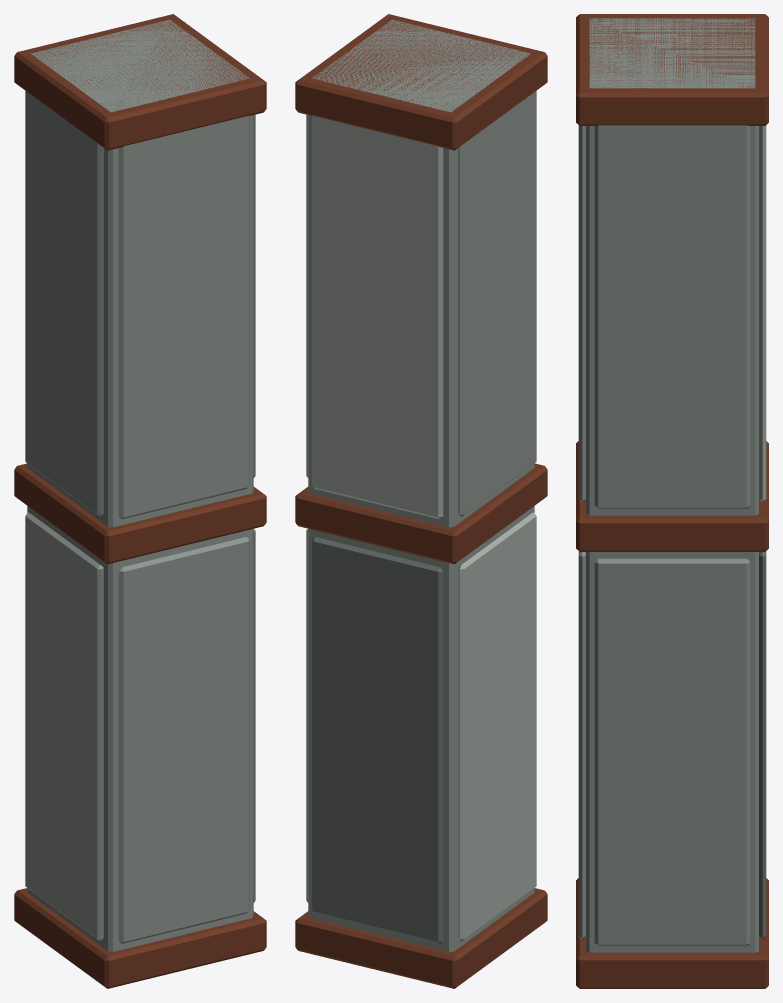
Rendered from RUIN_WALL_Pillar_4.glb.
The picture shows the model from 3 angles, left to right: view 1: azimuth 30°, elevation 25°; view 2: azimuth 150°, elevation 25°; view 3: azimuth 270°, elevation 25°; orthographic projection. The views are drawn at different scales.
Parts seen in each view (by area): view 1: RUIN_WALL_Pillar_4; view 2: RUIN_WALL_Pillar_4; view 3: RUIN_WALL_Pillar_4.
Part boxes in pixels (bbox=[...]): RUIN_WALL_Pillar_4: bbox=[14, 14, 266, 988]; RUIN_WALL_Pillar_4: bbox=[295, 14, 547, 988]; RUIN_WALL_Pillar_4: bbox=[576, 14, 768, 988].
Size of the model in its own units: 0.78 by 4 by 0.78.
